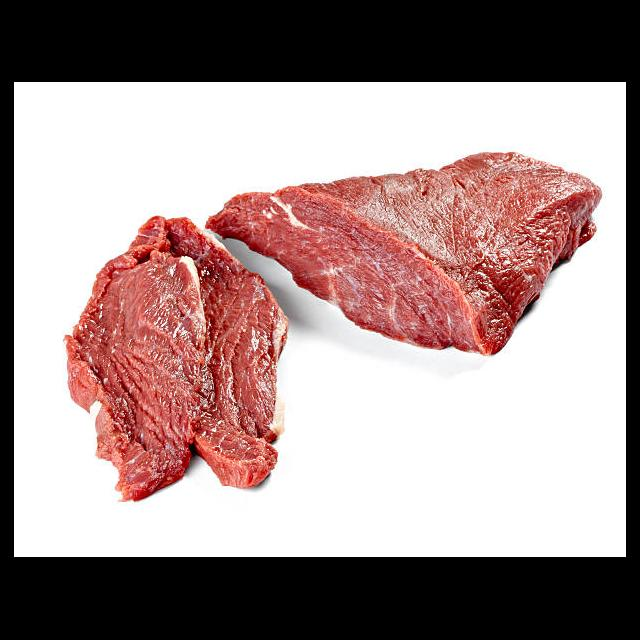beef: (205, 152, 601, 358), (63, 212, 296, 502)
